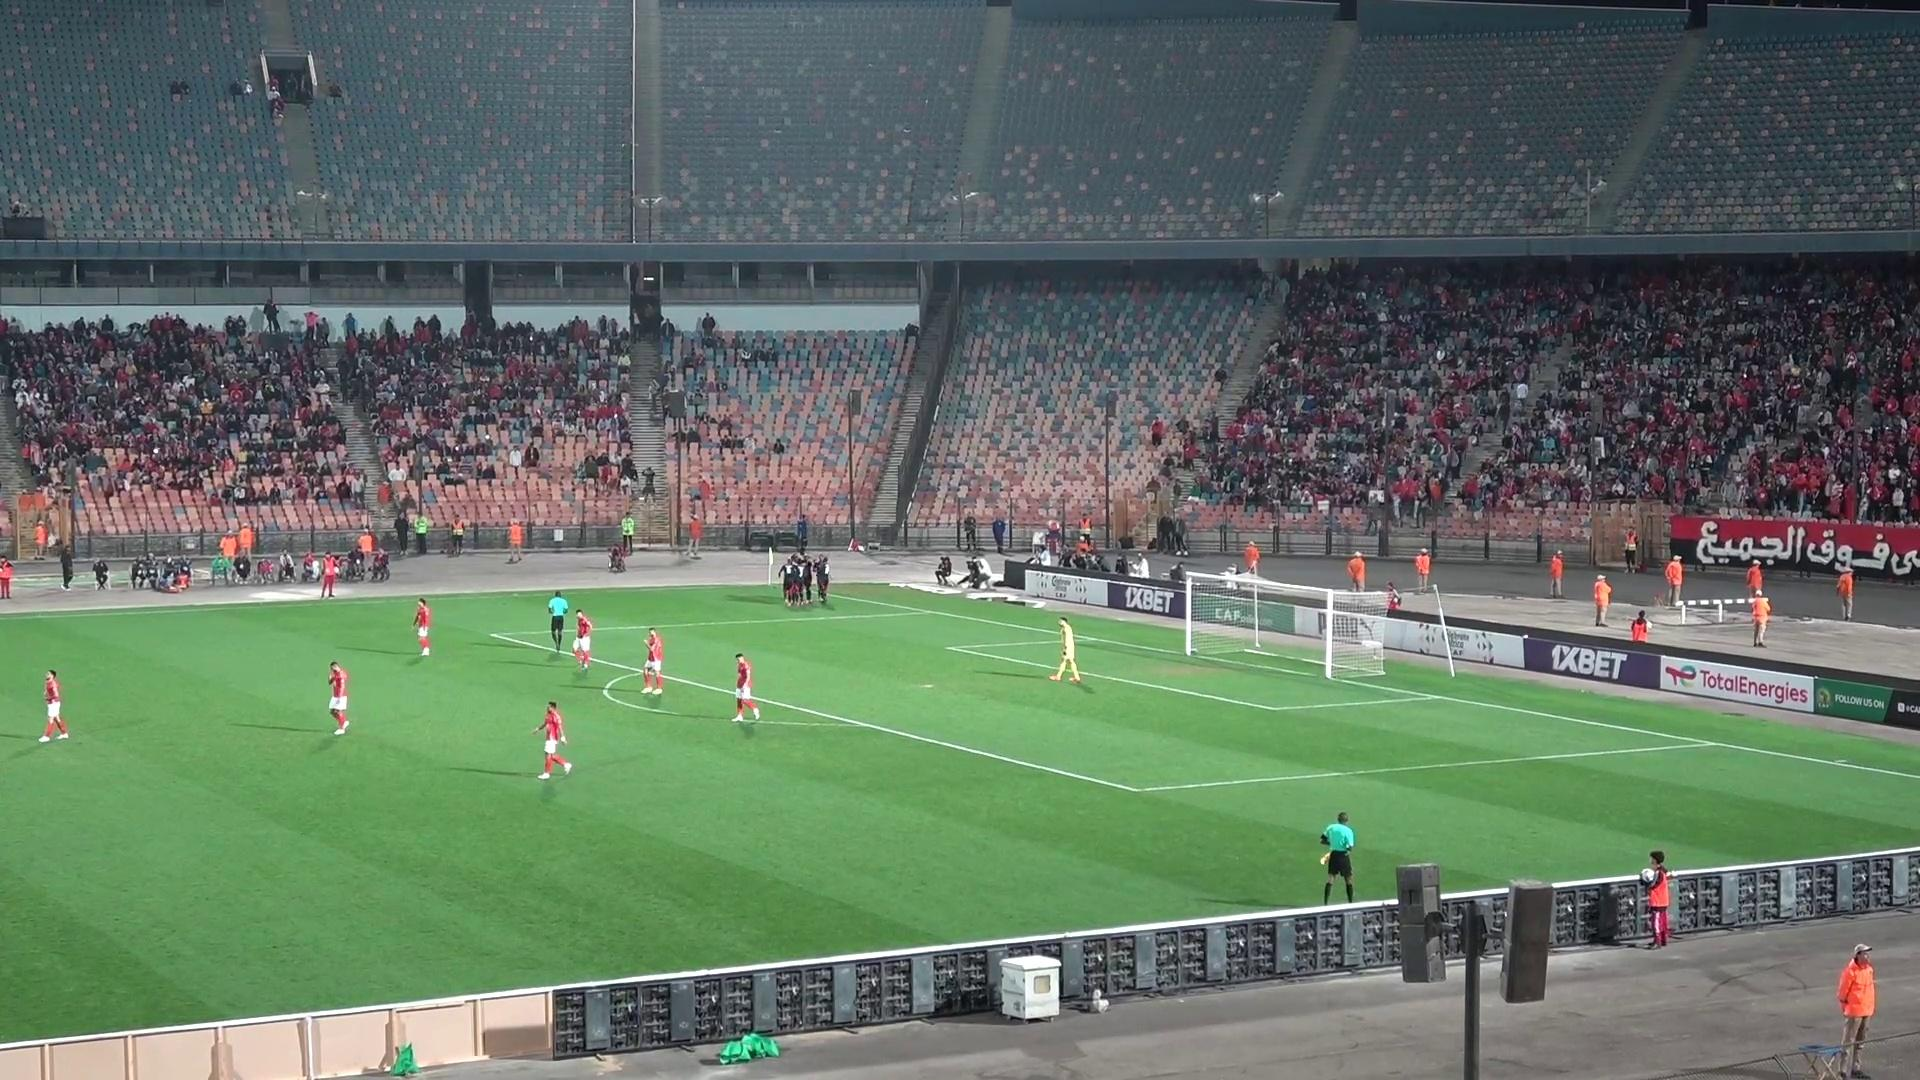GK1: (1047, 616, 1083, 684)
Refree: (1320, 812, 1356, 905), (549, 591, 571, 654)
Team1: (534, 702, 572, 781), (38, 670, 69, 742), (731, 653, 760, 723), (324, 661, 349, 735), (640, 628, 665, 695), (570, 609, 593, 674), (411, 597, 433, 655)
Team2: (790, 551, 812, 605), (781, 554, 800, 607), (812, 555, 828, 604)
